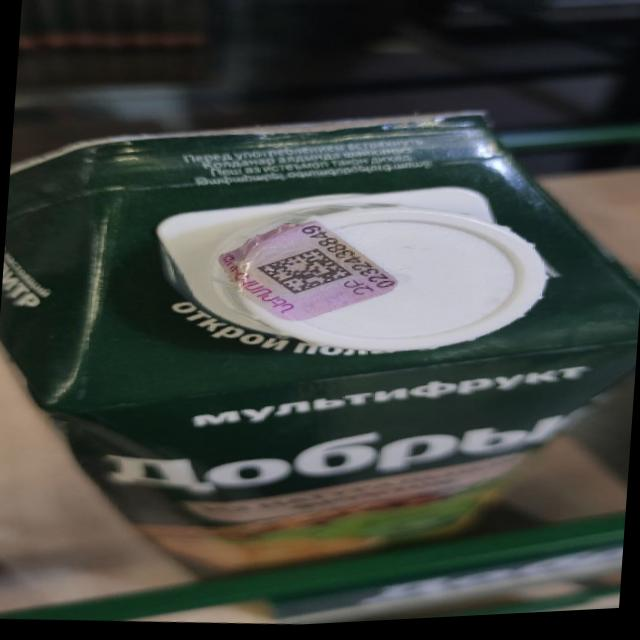datamatrix: (258, 245, 357, 302)
